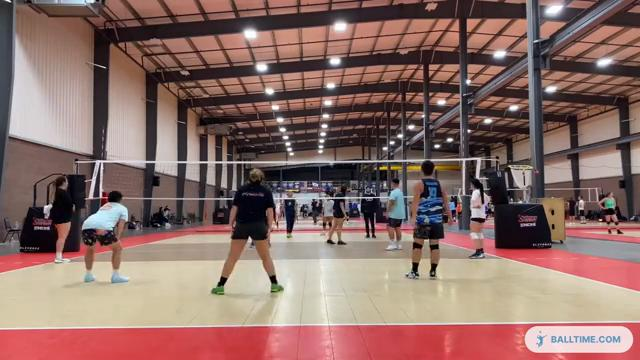Player: (211, 169, 283, 294), (405, 160, 448, 278), (82, 191, 128, 282), (46, 173, 79, 266), (386, 179, 406, 251), (469, 179, 486, 259), (327, 186, 347, 244), (361, 187, 377, 237), (283, 192, 296, 237), (322, 192, 333, 235)
